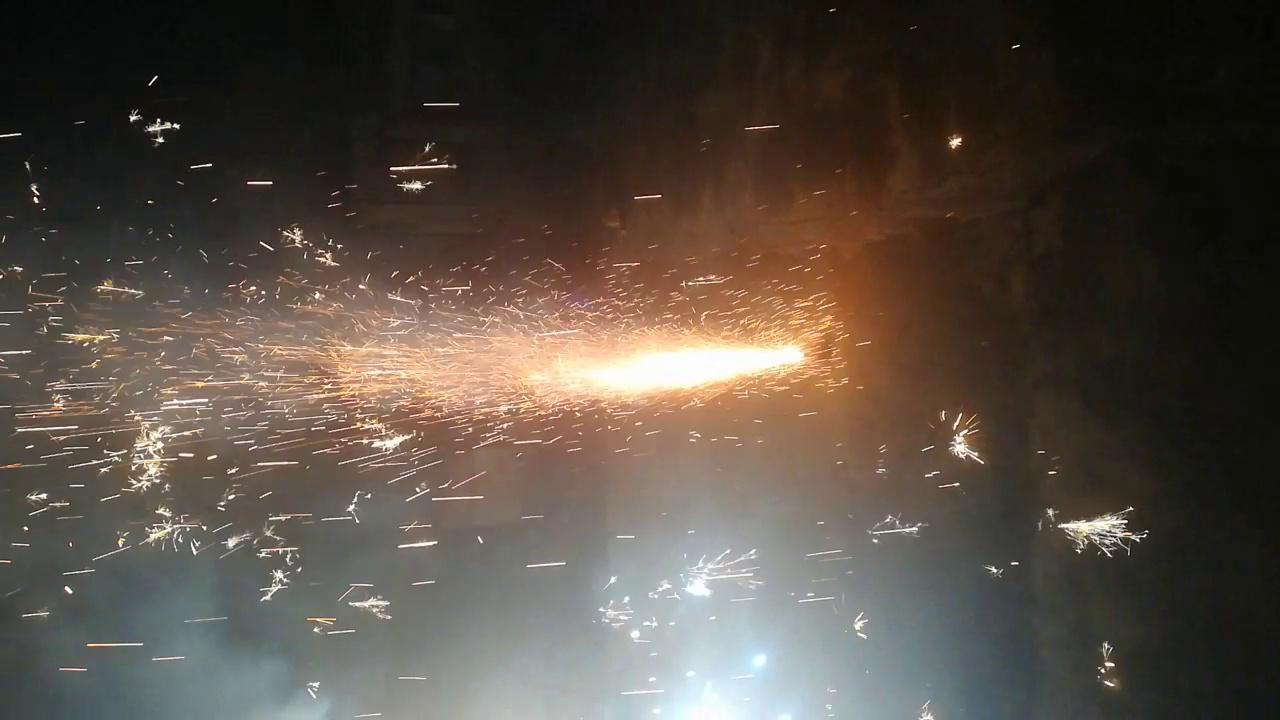fire: (393, 325, 814, 413)
